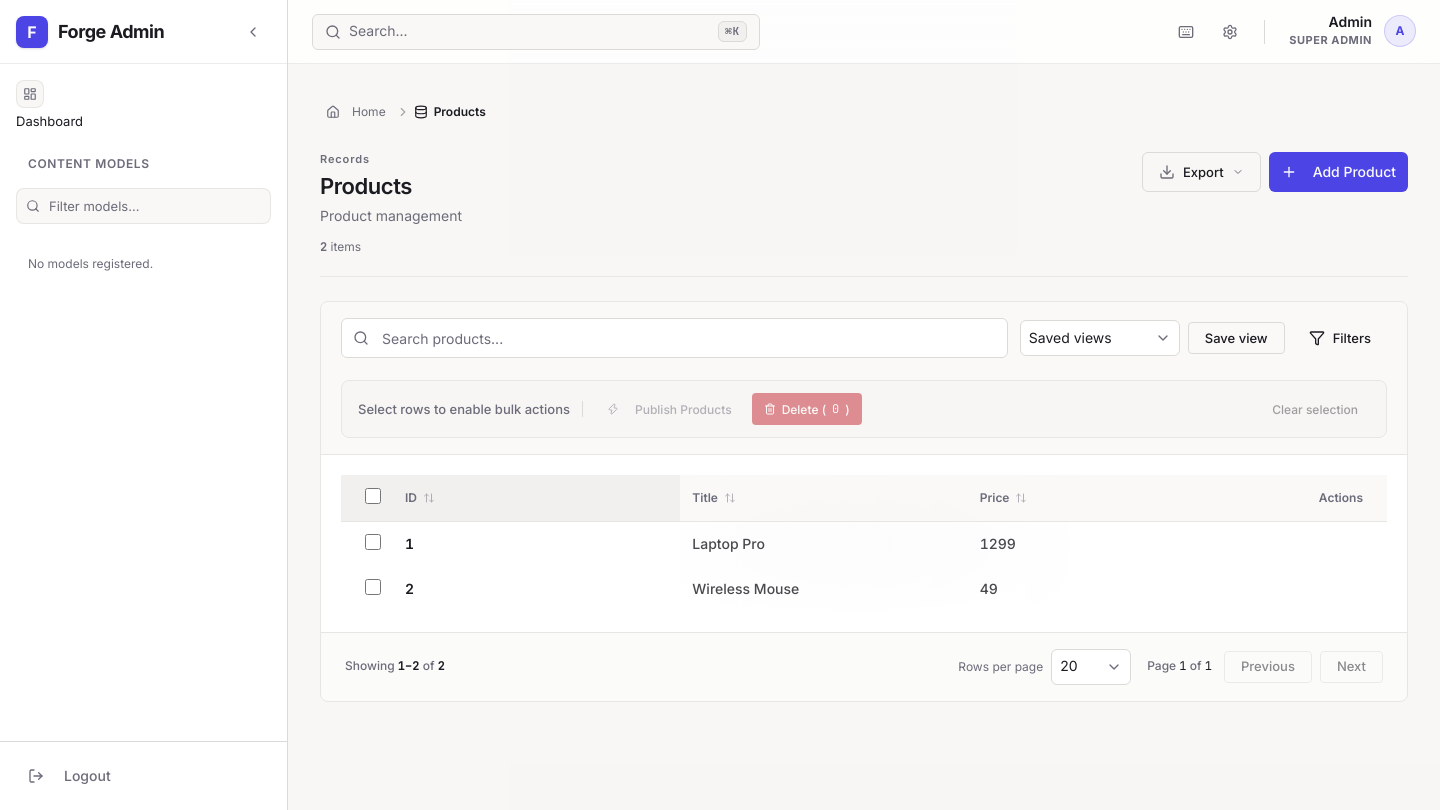
Test: ModelListPage › confirms Delete Selected with the current selection count
Click the checkbox with test id "select-1": (373, 542) 365,534 -> 381,550
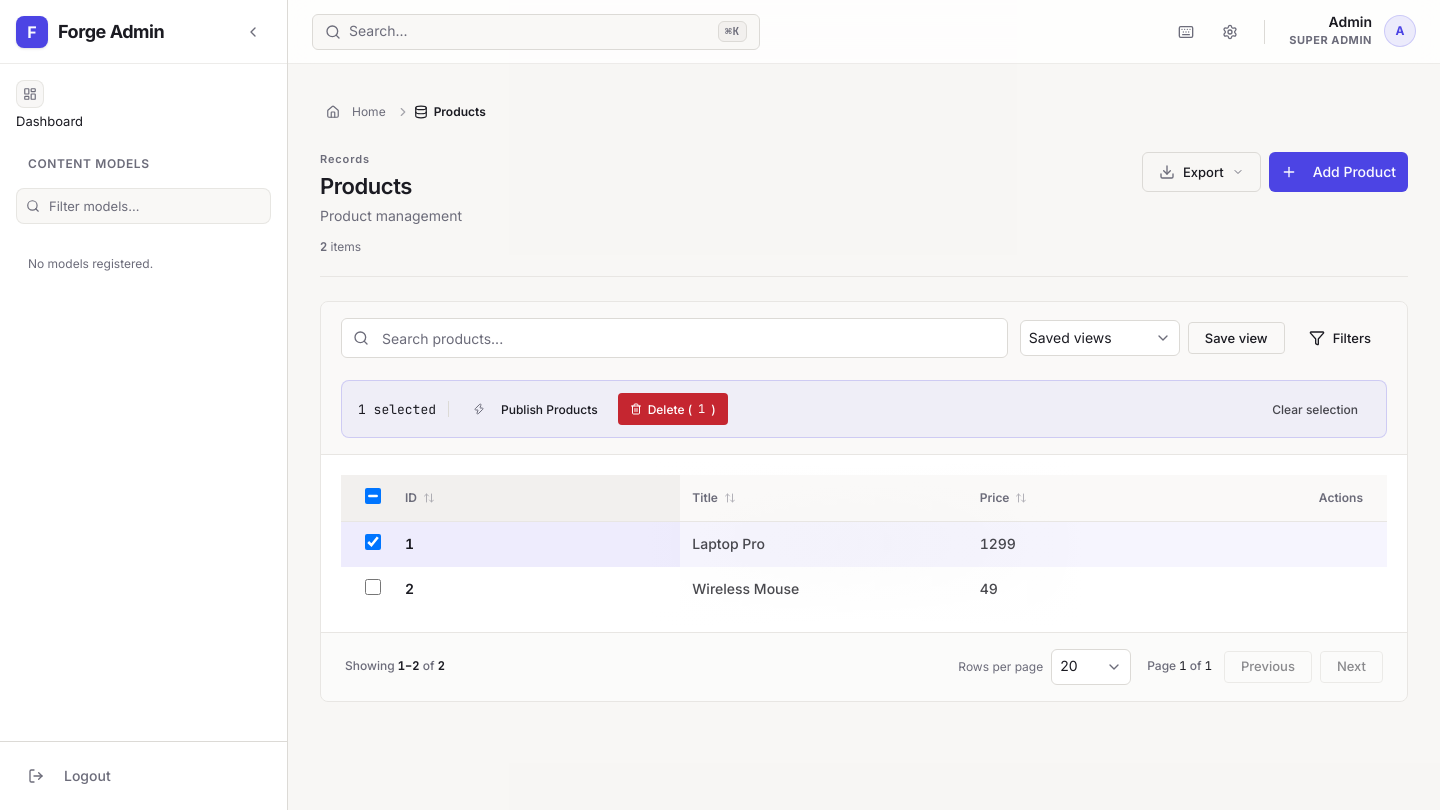
Click the button with test id "bulk-delete-button": (673, 410) 618,394 -> 728,426
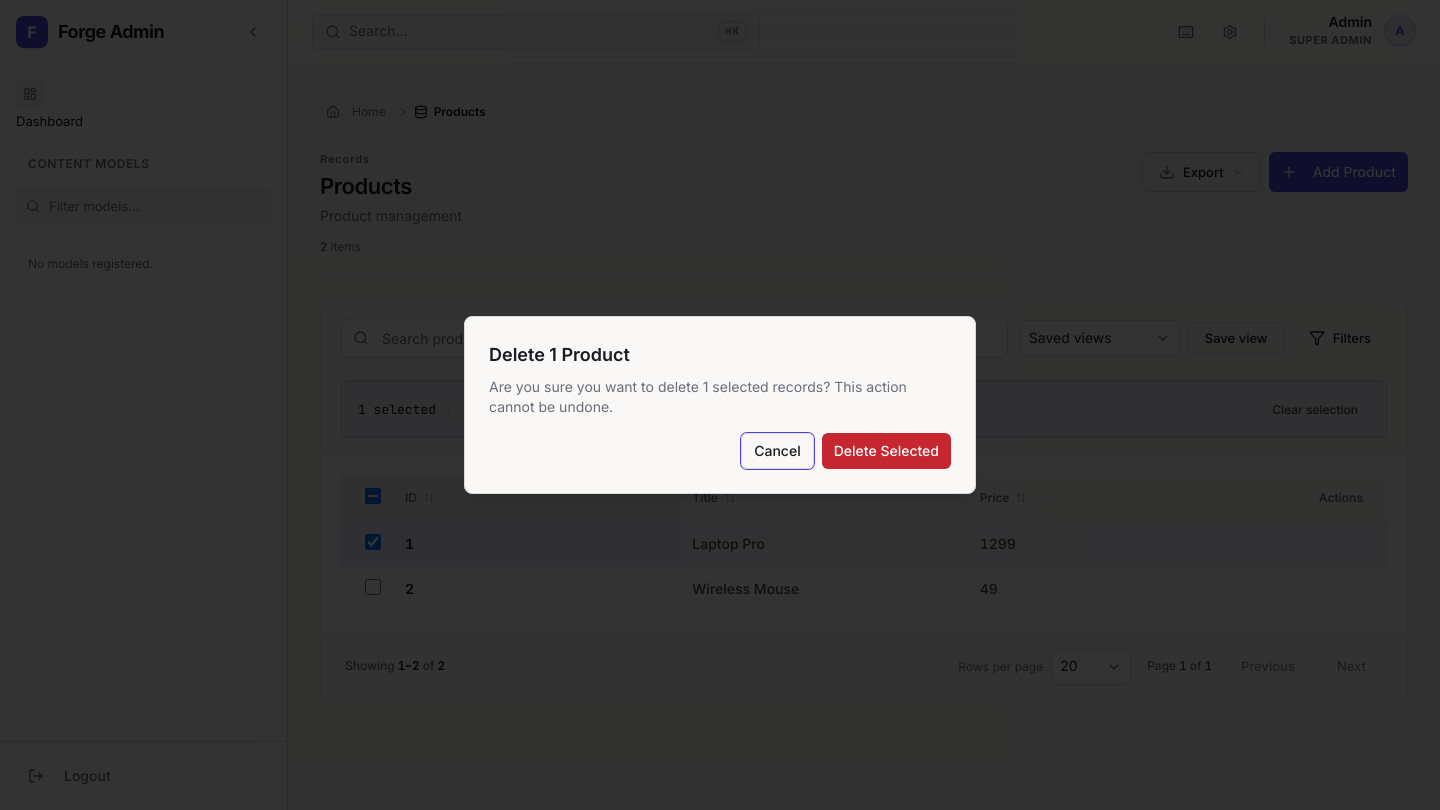
Check: the dialog with test id "bulk-delete-dialog" shows "Delete 1 Product", box 489,344 -> 630,365
Check: the dialog with test id "bulk-delete-dialog" shows "delete 1 selected records", box 489,378 -> 907,415
Click the button with test id "bulk-delete-dialog-cancel": (777, 451) 741,433 -> 814,469
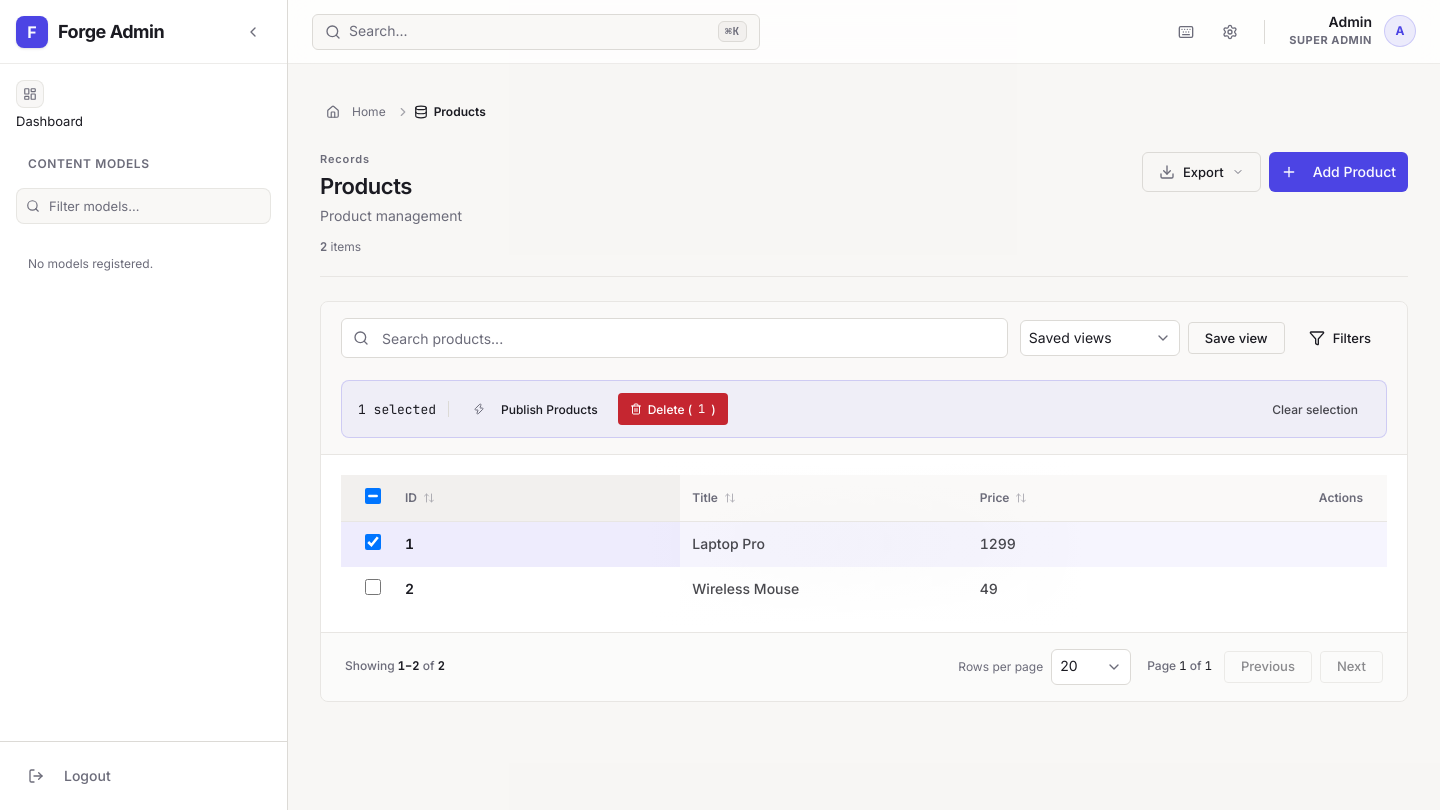
Click the checkbox with test id "select-2": (373, 587) 365,579 -> 381,595
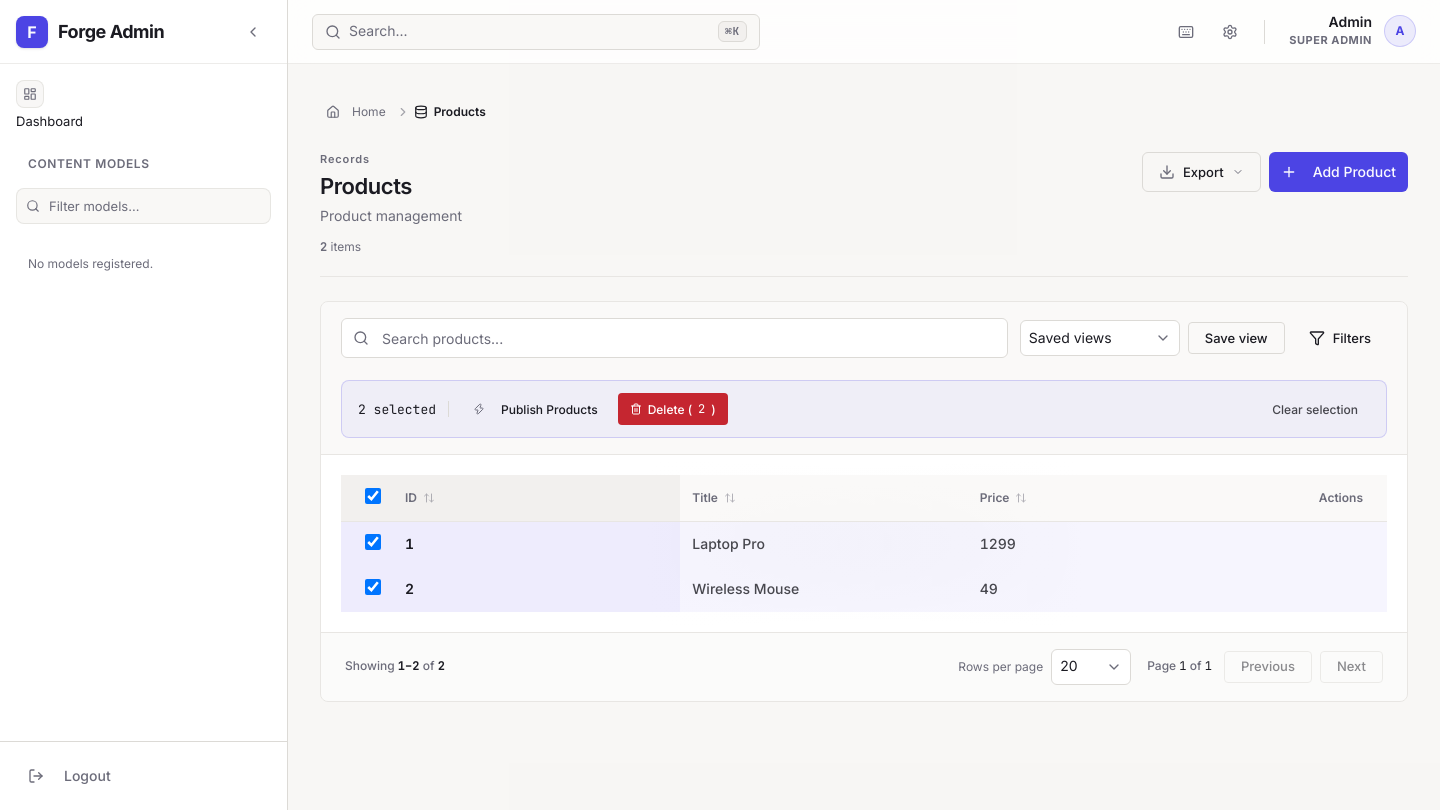
Click the button with test id "bulk-delete-button": (673, 410) 618,394 -> 728,426
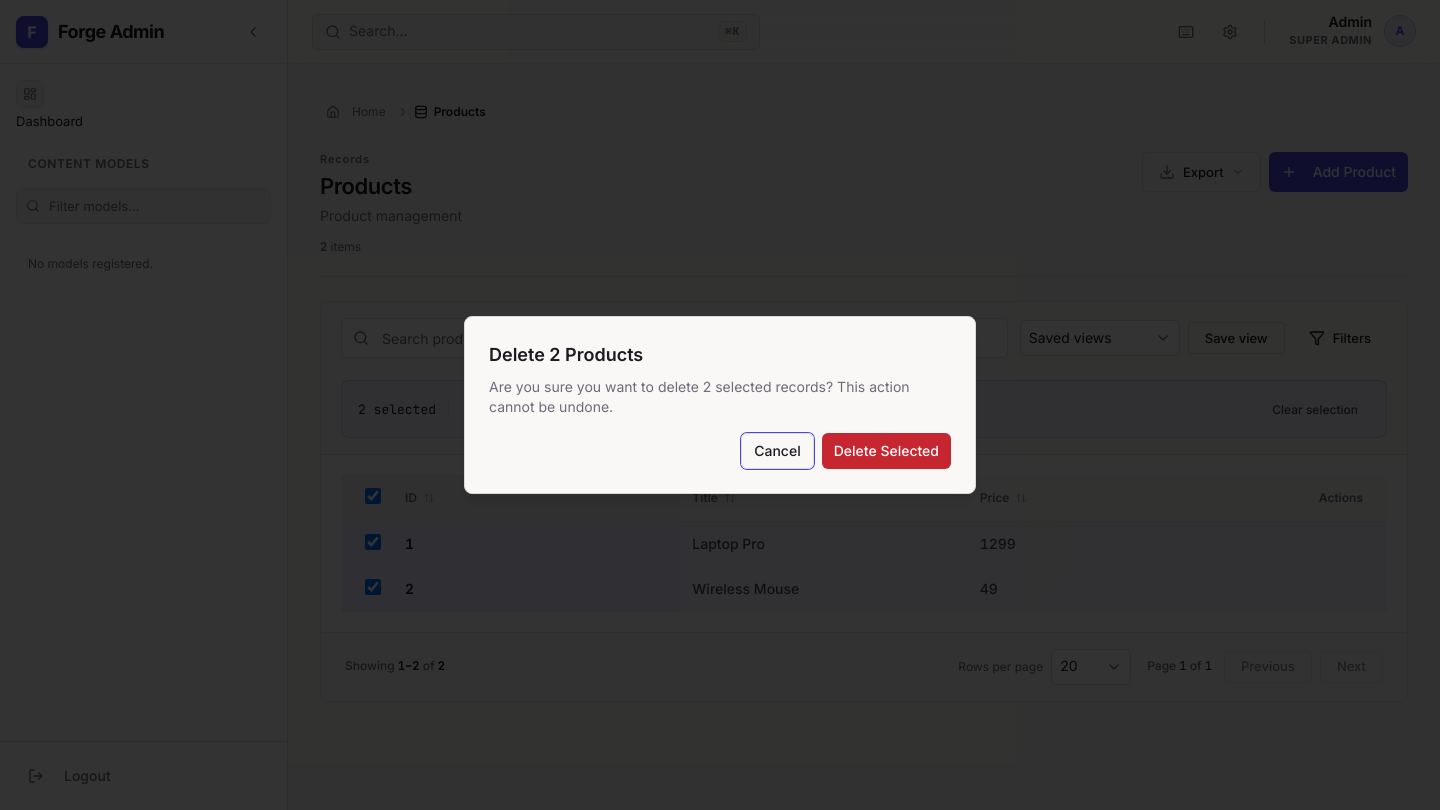
Check: the dialog with test id "bulk-delete-dialog" shows "Delete 2 Products", box 489,344 -> 643,365
